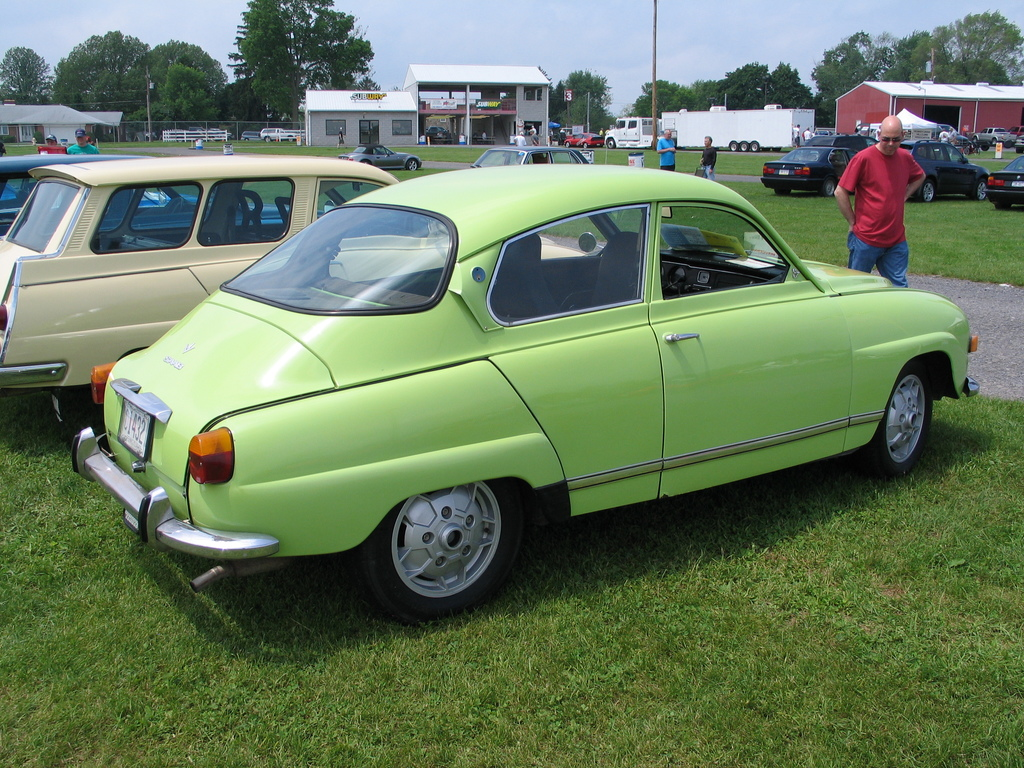Person: (64, 127, 100, 156), (513, 131, 527, 149), (792, 124, 801, 146), (802, 127, 812, 141), (46, 134, 58, 145)
